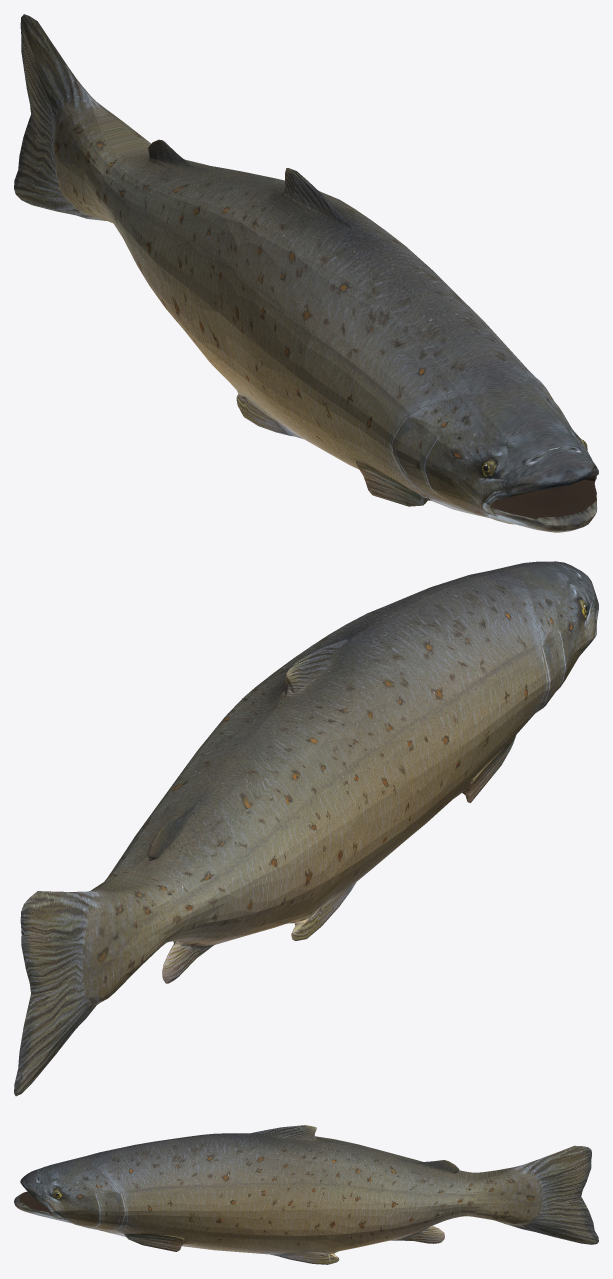
Rendered from FishHP.fbx.
3 renders of one model, top to bottom at view 1: azimuth 30°, elevation 25°; view 2: azimuth 150°, elevation 25°; view 3: azimuth 270°, elevation 25°, orthographic. The views are drawn at different scales.
Parts seen in each view (by area): view 1: Fish; view 2: Fish; view 3: Fish.
Part boxes in pixels (bbox=[...]): Fish: bbox=[14, 14, 598, 532]; Fish: bbox=[14, 561, 598, 1096]; Fish: bbox=[14, 1125, 598, 1264].
Size of the model in its own units: 85.7 by 126 by 508.
Materials: 2 (1 with a texture image).
